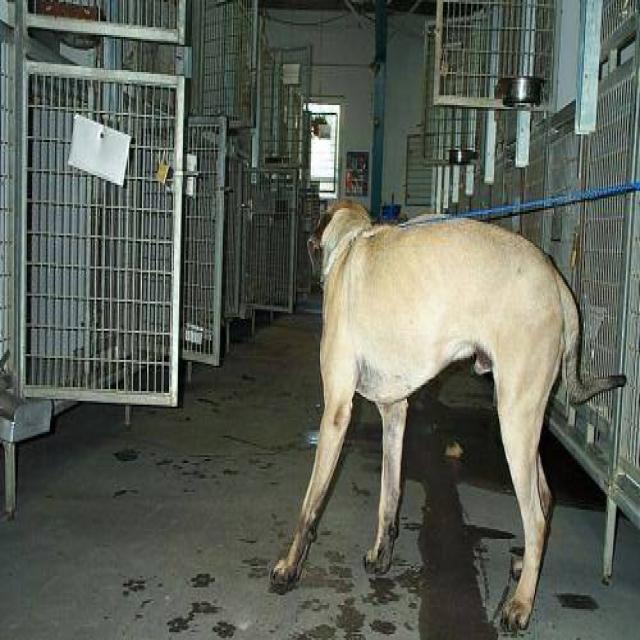dog: (267, 197, 626, 632)
